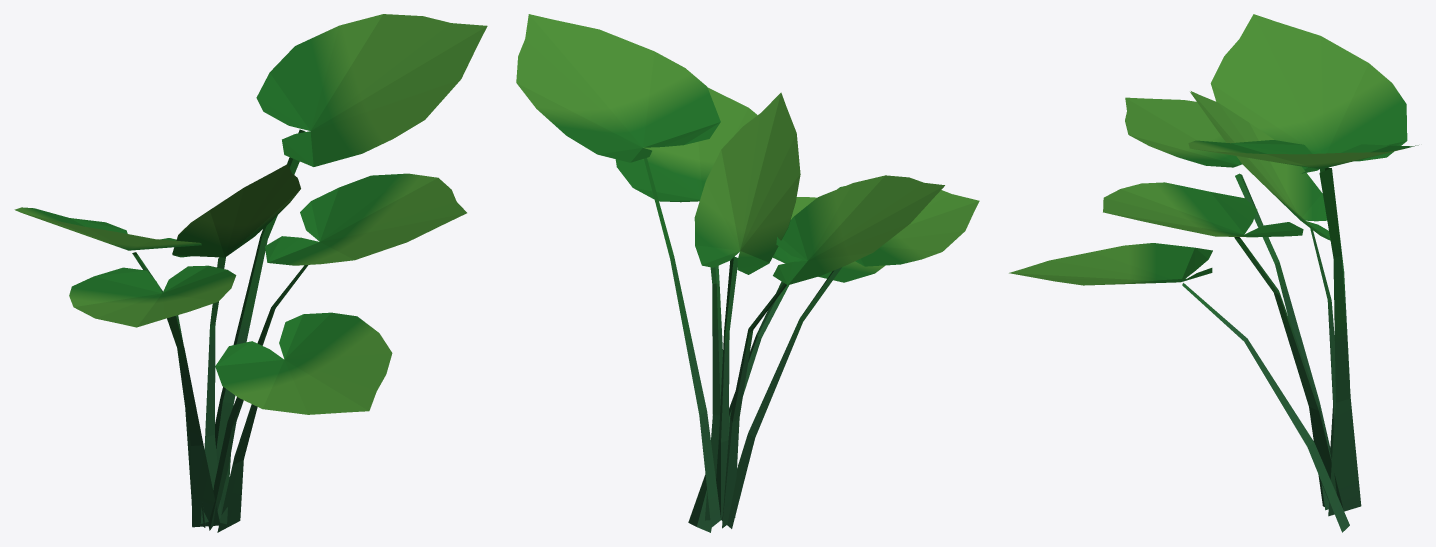
Rendered from um_scrub004.FBX.
3 views of the same model, side by side, from view 1: azimuth 30°, elevation 25°; view 2: azimuth 150°, elevation 25°; view 3: azimuth 270°, elevation 25° (orthographic). The views are drawn at different scales.
Visible parts, largest first — view 1: um_scrub004; view 2: um_scrub004; view 3: um_scrub004.
Boxes of the visible parts, box(x1,y1,x2,y2) form: um_scrub004: box(14, 14, 487, 532); um_scrub004: box(516, 14, 979, 532); um_scrub004: box(1009, 14, 1418, 532).
Bounding box in the file's own units: 1.95 × 1.99 × 1.52.
